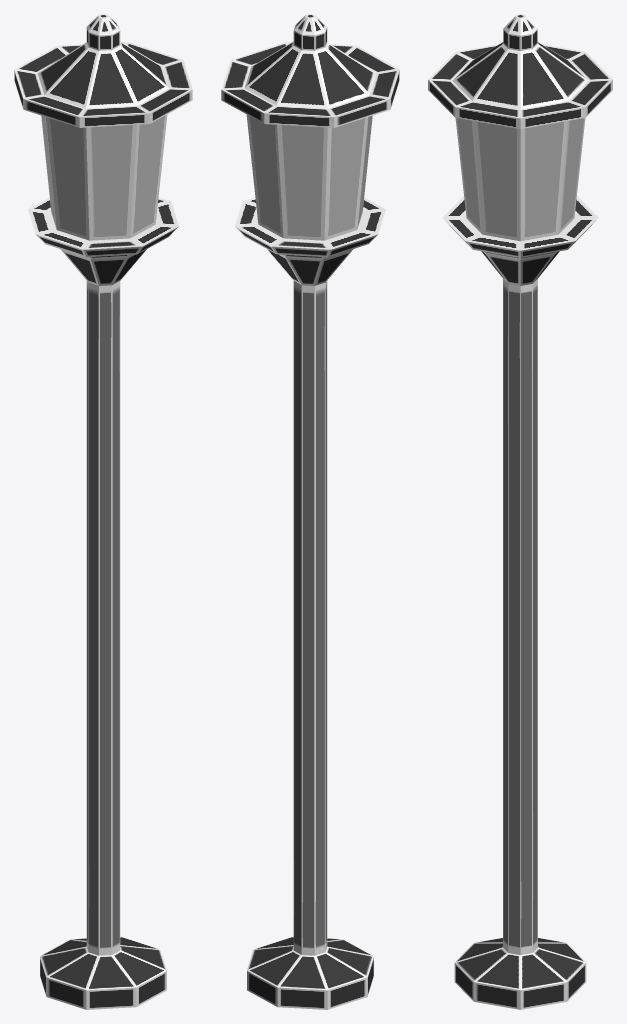
The model's file is LampPostGGJ.fbx.
3 renders of one model, left to right at view 1: azimuth 30°, elevation 25°; view 2: azimuth 150°, elevation 25°; view 3: azimuth 270°, elevation 25°, orthographic.
Visible parts, largest first — view 1: pCylinder3; view 2: pCylinder3; view 3: pCylinder3.
Boxes of the visible parts, <box> form: pCylinder3: <box>14,14,192,1009</box>; pCylinder3: <box>221,14,399,1009</box>; pCylinder3: <box>428,14,612,1009</box>.
Size of the model in its own units: 1.85 by 10.7 by 1.85.
